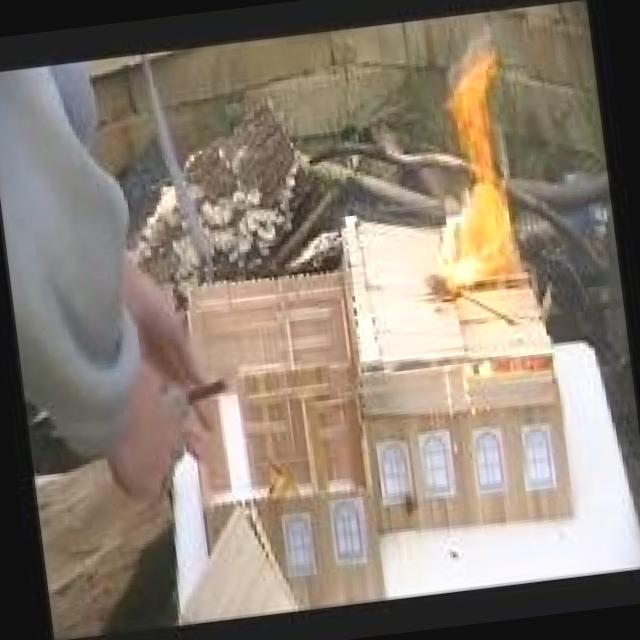fire: (414, 54, 532, 284)
